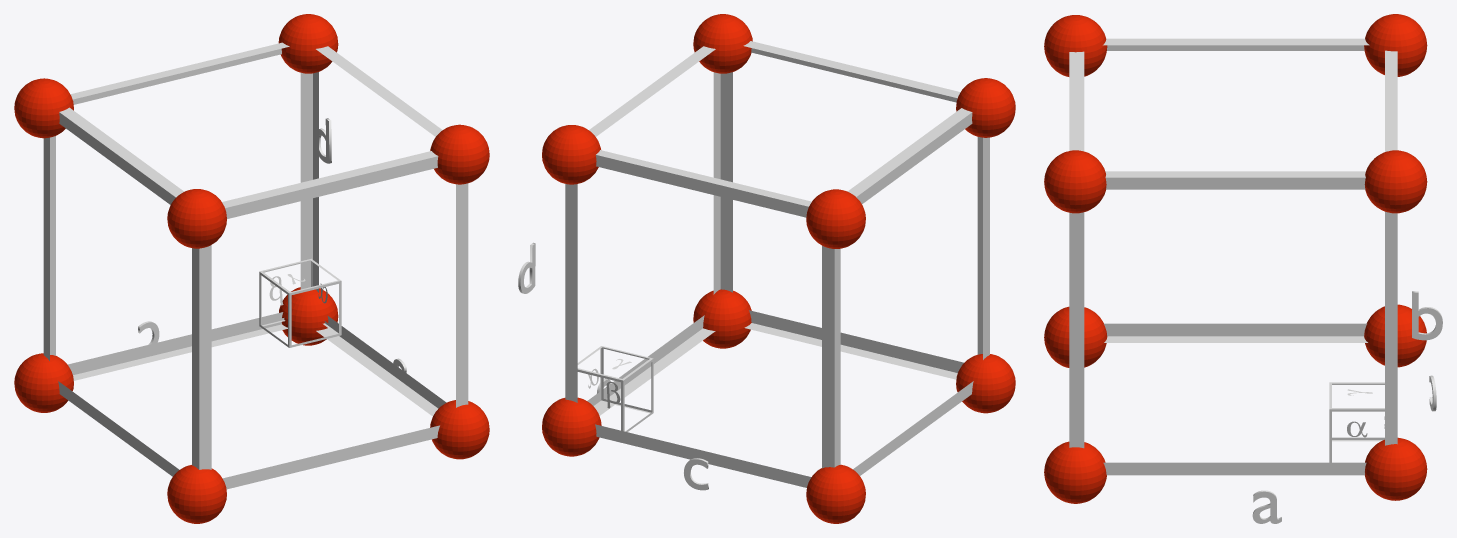
Rendered from cubique.fbx.
The picture shows the model from 3 angles, left to right: view 1: azimuth 30°, elevation 25°; view 2: azimuth 150°, elevation 25°; view 3: azimuth 270°, elevation 25°; orthographic projection. The views are drawn at different scales.
Visible parts, largest first — view 1: Text.003; view 2: Text.003; view 3: Text.003.
Boxes of the visible parts, left/top/right/bottom form: Text.003: left=14, top=14, right=489, bottom=523; Text.003: left=518, top=14, right=1015, bottom=523; Text.003: left=1044, top=14, right=1442, bottom=523.
Bounding box in the file's own units: 854 × 851 × 868.
